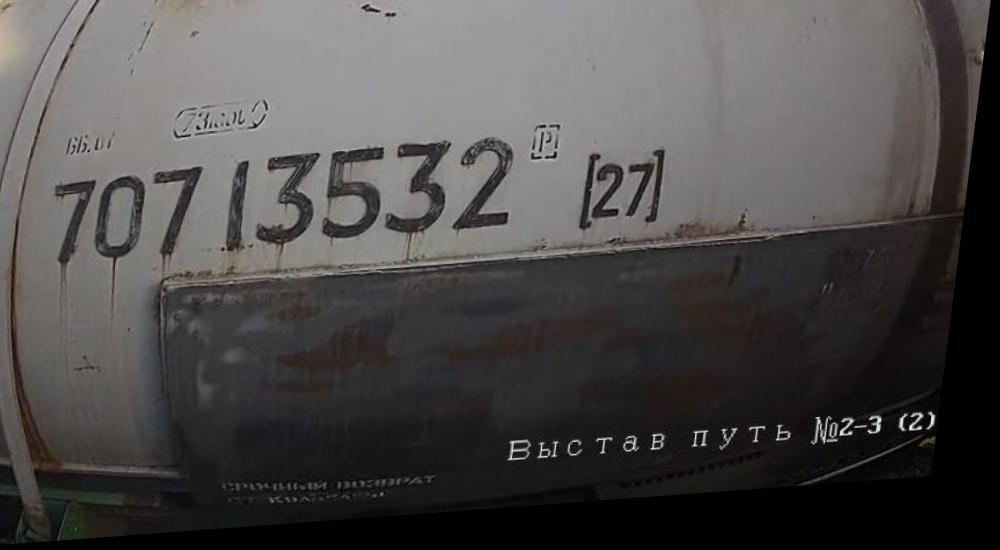Wagon-number: (46, 140, 530, 271)
